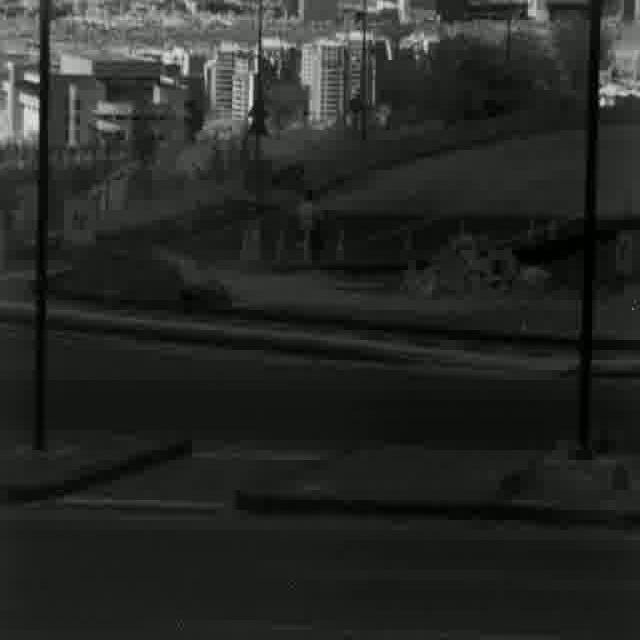Motorcycle: (292, 190, 322, 259)
